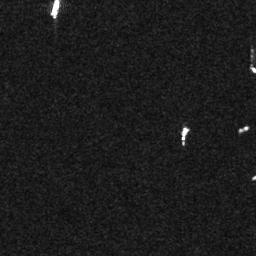ship: (49, 1, 64, 19), (178, 125, 190, 145), (250, 64, 256, 75)
